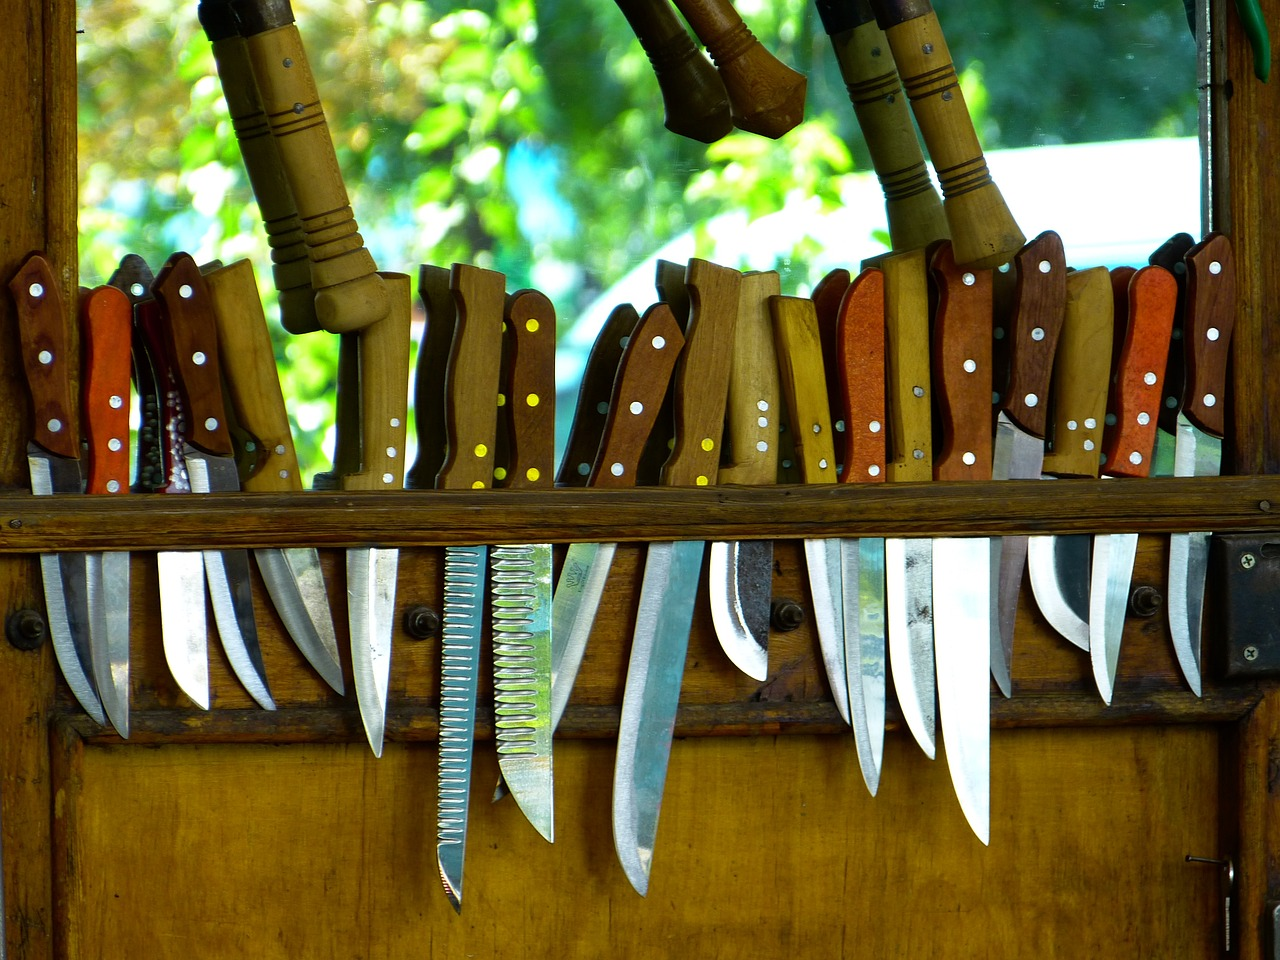knife: (604, 254, 746, 906), (505, 306, 702, 759), (204, 261, 356, 699), (156, 254, 300, 716), (762, 291, 880, 728), (430, 244, 505, 918), (119, 258, 226, 718), (987, 221, 1089, 700), (1018, 263, 1131, 656), (1080, 261, 1176, 712), (12, 252, 101, 735), (937, 261, 1008, 850), (498, 283, 568, 850), (869, 250, 942, 766), (329, 271, 399, 759), (838, 273, 898, 803), (78, 279, 140, 751), (719, 269, 785, 695), (1183, 219, 1240, 699)
